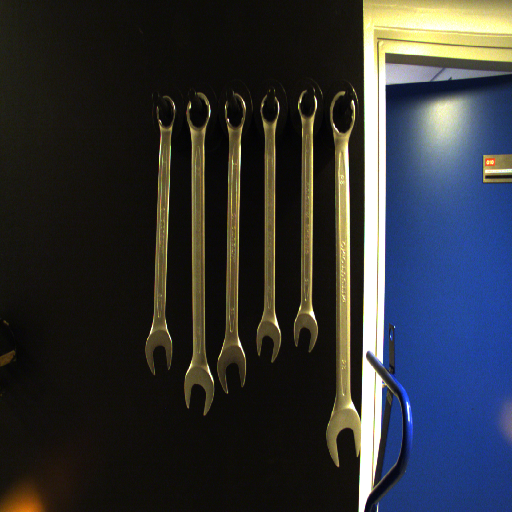bottom: (320, 410, 366, 470), (181, 362, 216, 417), (216, 345, 248, 397), (143, 327, 176, 377), (251, 322, 284, 367), (290, 311, 321, 353)
top: (327, 89, 357, 140), (220, 88, 249, 131), (183, 92, 211, 132), (152, 92, 179, 133), (260, 90, 284, 131), (294, 90, 320, 124)
